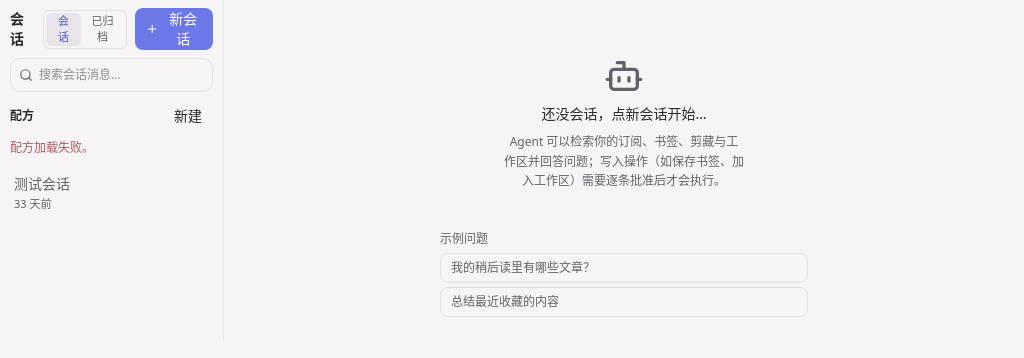
Agent 引用可点击（wave 2） › citations 经 POST /api/v1/resolve 解析；解析命中的渲染为按钮，stale 渲染为失效纯文本
Click the button "测试会话 33 天前". click: (96, 193)
box: [6,168,185,218]
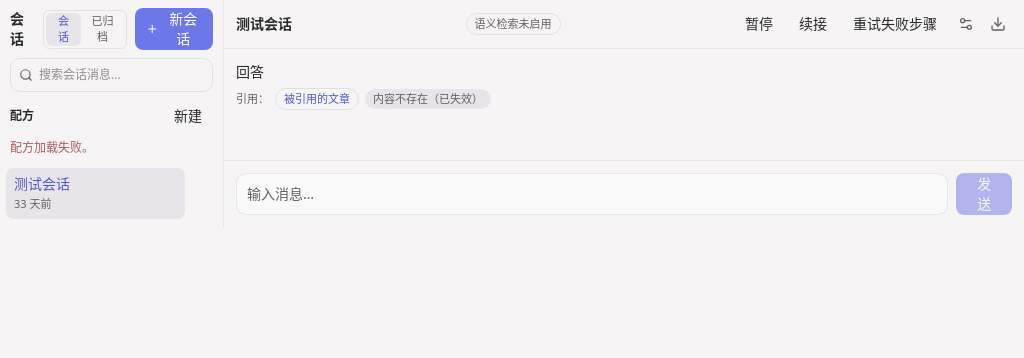
Check: the text "回答" is shown, box [236,62,264,81]
Check: the button "被引用的文章" is shown, box [275,88,359,110]
Check: the text "内容不存在（已失效）" is shown, box [365,89,491,109]
